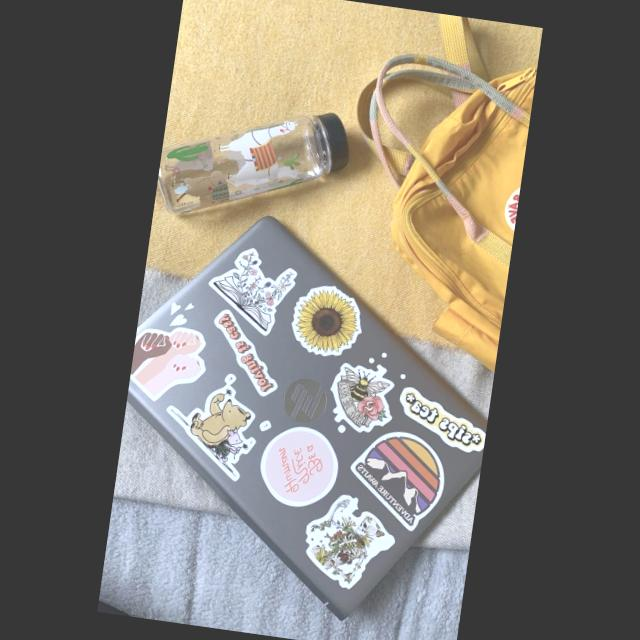laptop: (102, 201, 512, 625)
